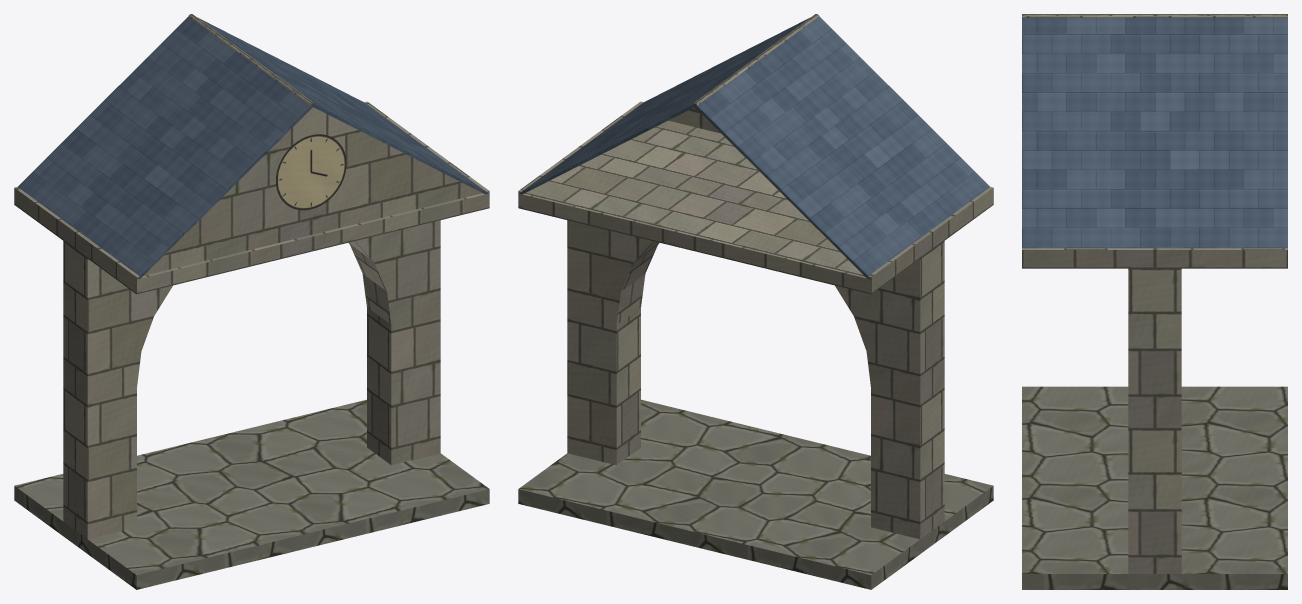
The model's file is Furn_Arcade_Gate.fbx.
3 views of the same model, side by side, from view 1: azimuth 30°, elevation 25°; view 2: azimuth 150°, elevation 25°; view 3: azimuth 270°, elevation 25° (orthographic). The views are drawn at different scales.
Parts seen in each view (by area): view 1: Furn_Arcade_Gate_Mesh; view 2: Furn_Arcade_Gate_Mesh; view 3: Furn_Arcade_Gate_Mesh.
Part boxes in pixels (bbox=[...]): Furn_Arcade_Gate_Mesh: bbox=[14, 14, 489, 589]; Furn_Arcade_Gate_Mesh: bbox=[518, 14, 993, 589]; Furn_Arcade_Gate_Mesh: bbox=[1022, 14, 1287, 589].
Bounding box in the file's own units: 5 × 6 × 3.
